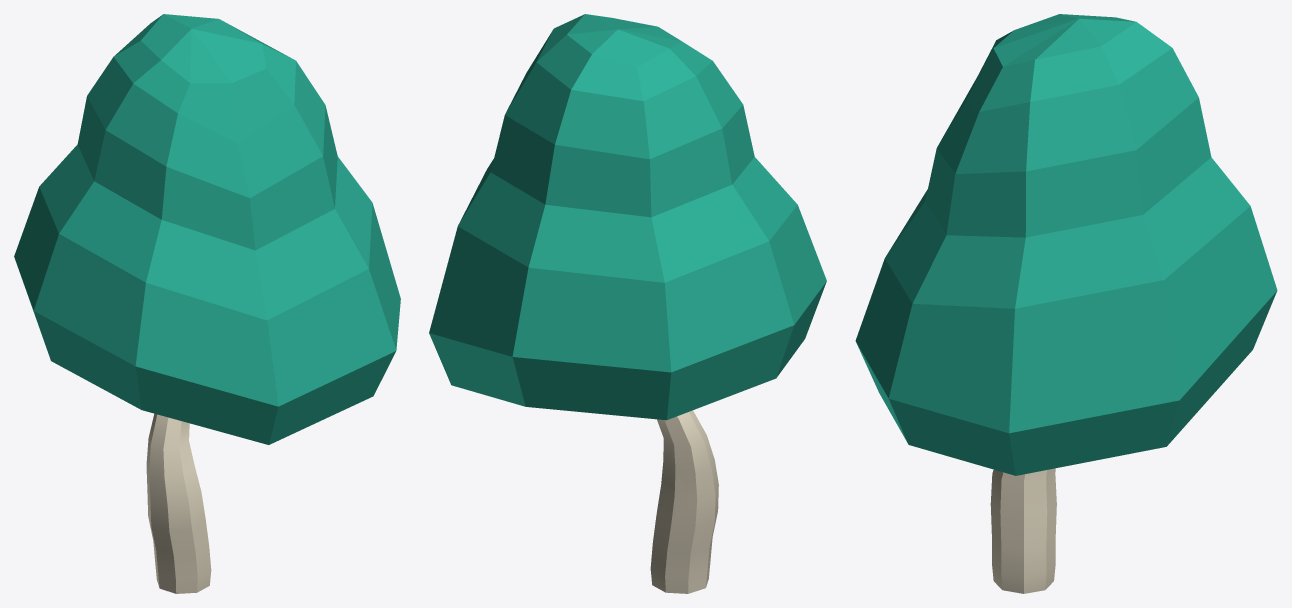
Rendered from MagicMushroomGreen.fbx.
3 views of the same model, side by side, from view 1: azimuth 30°, elevation 25°; view 2: azimuth 150°, elevation 25°; view 3: azimuth 270°, elevation 25° (orthographic). The views are drawn at different scales.
Parts seen in each view (by area): view 1: pSphere2, pCylinder1; view 2: pSphere2, pCylinder1; view 3: pSphere2, pCylinder1.
Boxes of the visible parts, x1,y1,x2,y2 form: pSphere2: [14, 14, 400, 444]; pCylinder1: [146, 413, 211, 593]; pSphere2: [429, 14, 826, 420]; pCylinder1: [650, 410, 718, 593]; pSphere2: [855, 14, 1277, 475]; pCylinder1: [990, 468, 1056, 593].
Size of the model in its own units: 17.27 by 25.68 by 16.92.
